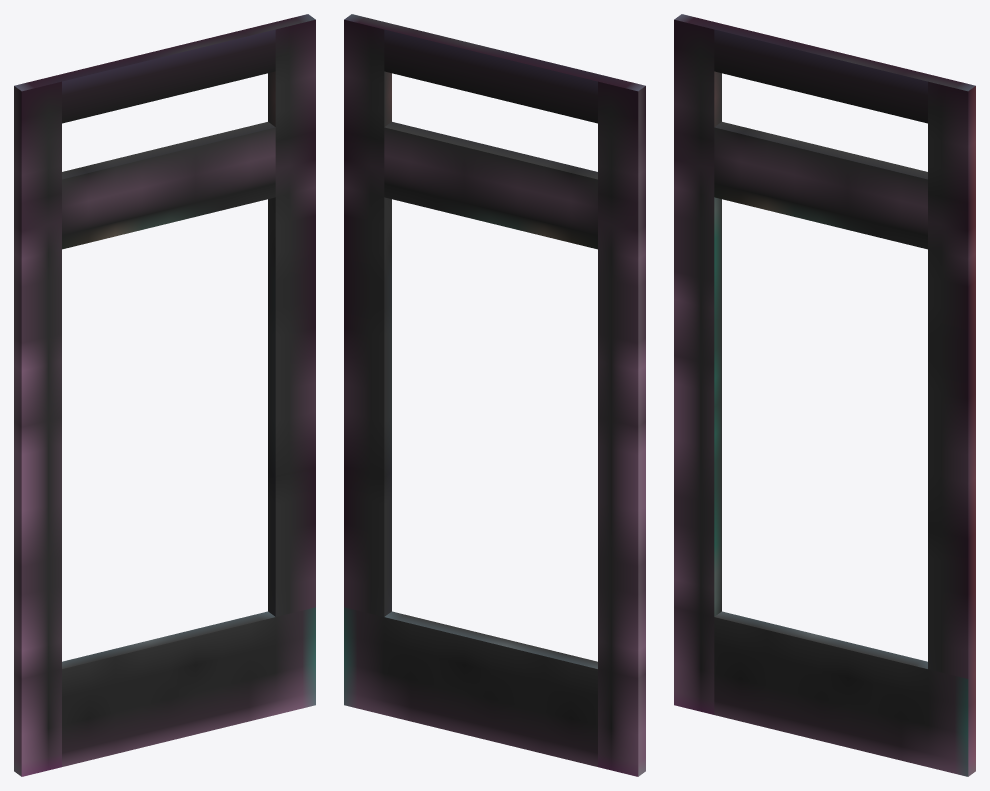
The model's file is Door_C_00.fbx.
3 views of the same model, side by side, from view 1: azimuth 30°, elevation 25°; view 2: azimuth 150°, elevation 25°; view 3: azimuth 330°, elevation 25° (orthographic).
Visible parts, largest first — view 1: Door_C_00; view 2: Door_C_00; view 3: Door_C_00.
Boxes of the visible parts, box(x1,y1,x2,y2) form: Door_C_00: box(14, 14, 315, 776); Door_C_00: box(344, 14, 645, 776); Door_C_00: box(674, 14, 975, 776).
Bounding box in the file's own units: 110 × 245 × 5.
